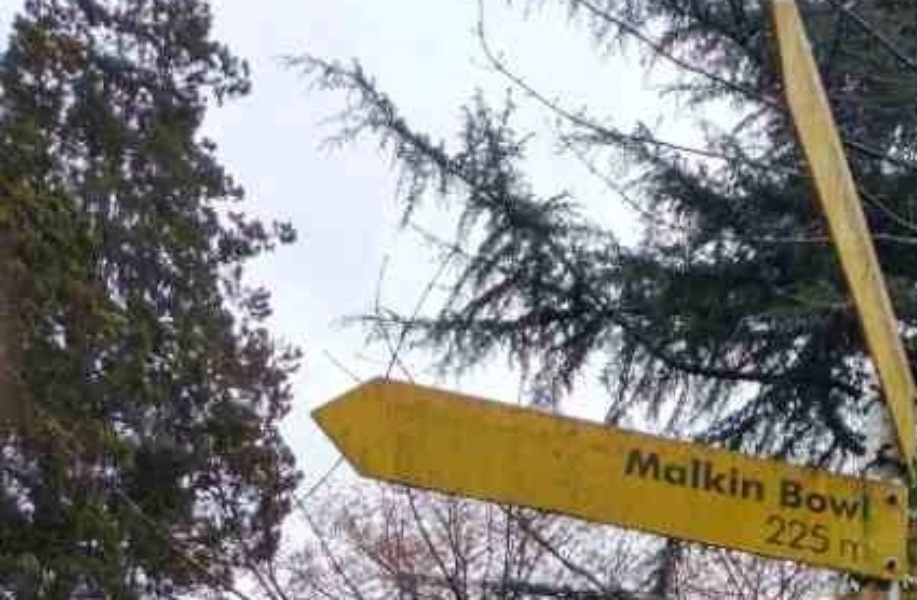text: (641, 441, 656, 508), (657, 441, 672, 508), (673, 441, 688, 508), (689, 441, 704, 508), (705, 441, 720, 508), (721, 441, 736, 508), (737, 441, 752, 508), (626, 441, 640, 508), (753, 441, 766, 508), (785, 473, 800, 527), (801, 473, 816, 527), (817, 473, 832, 527), (833, 473, 848, 527), (849, 473, 864, 527), (817, 510, 833, 559), (769, 510, 784, 559), (785, 510, 800, 559), (801, 510, 816, 559), (849, 534, 864, 568), (836, 534, 848, 568), (777, 473, 784, 527), (865, 473, 872, 527), (865, 534, 874, 568), (762, 510, 768, 559)
